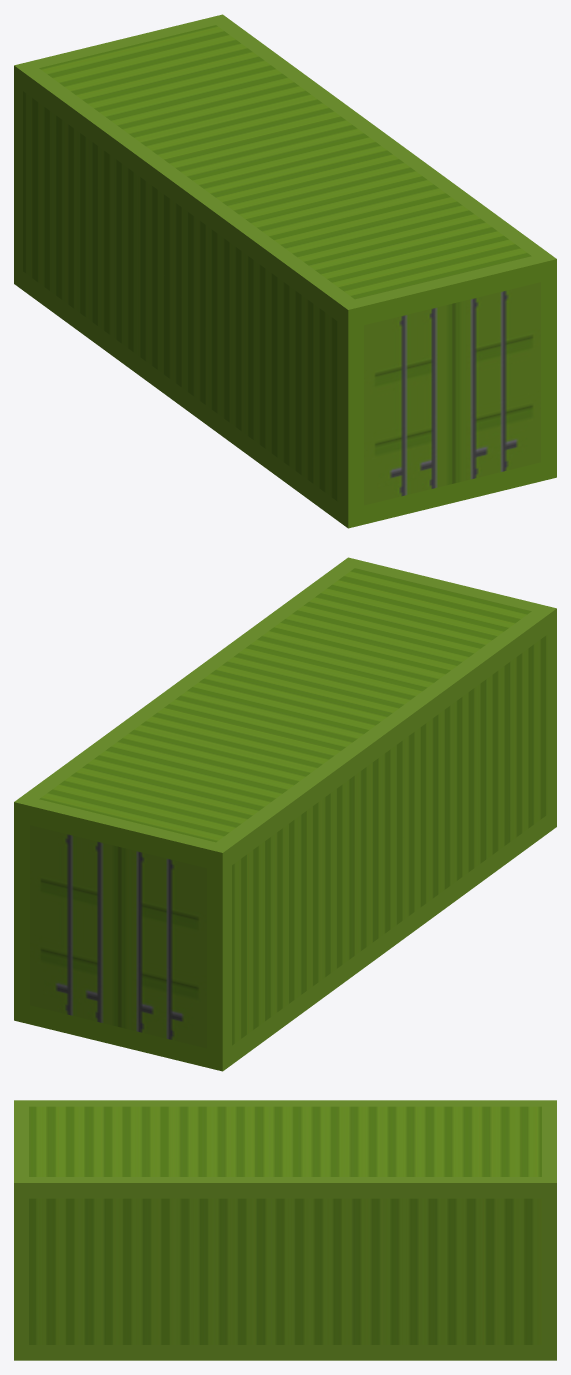
Rendered from Container003.fbx.
3 renders of one model, top to bottom at view 1: azimuth 30°, elevation 25°; view 2: azimuth 150°, elevation 25°; view 3: azimuth 270°, elevation 25°, orthographic. The views are drawn at different scales.
Visible parts, largest first — view 1: polySurface2042; view 2: polySurface2042; view 3: polySurface2042.
Boxes of the visible parts, x1=… form: polySurface2042: x1=14, y1=14, x2=556, y2=528; polySurface2042: x1=14, y1=557, x2=556, y2=1071; polySurface2042: x1=14, y1=1100, x2=556, y2=1360.
Bounding box in the file's own units: 227 × 227 × 629.
